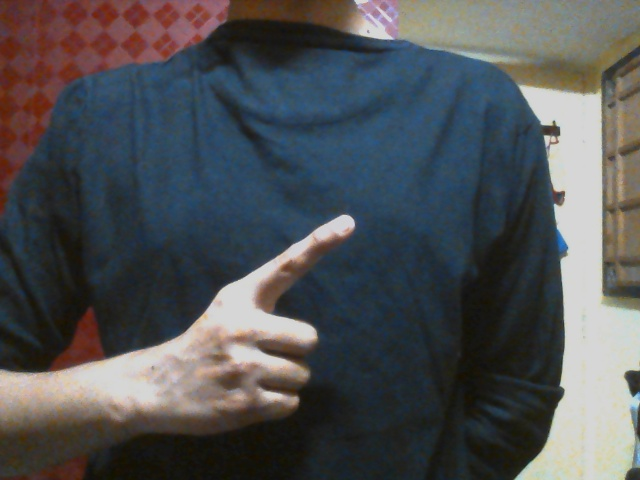I: (168, 213, 359, 435)
